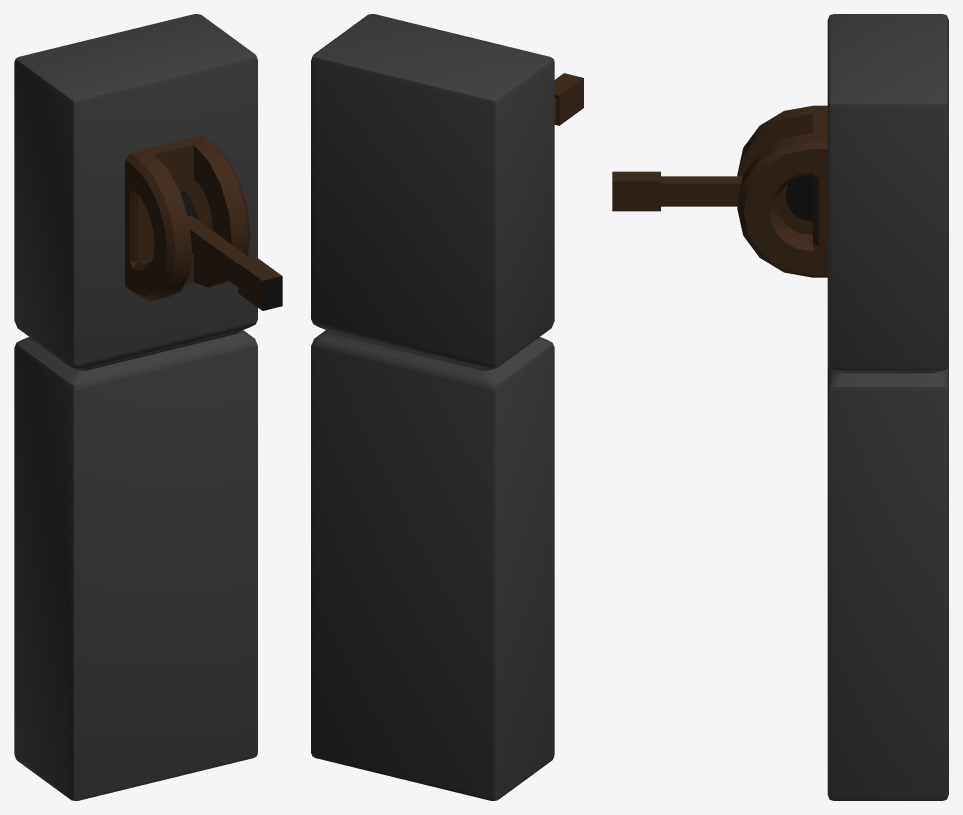
File: LeverSkeleto.fbx
The picture shows the model from 3 angles, left to right: view 1: azimuth 30°, elevation 25°; view 2: azimuth 150°, elevation 25°; view 3: azimuth 270°, elevation 25°; orthographic projection.
Parts seen in each view (by area): view 1: Lever_main, lever, Cube; view 2: Lever_main, Cube; view 3: Lever_main, lever, Cube.
Part boxes in pixels (box(x1,y1,x2,y2)): Lever_main: box(14, 14, 257, 800); lever: box(187, 215, 251, 286); Cube: box(238, 258, 282, 310); Lever_main: box(311, 14, 554, 800); Cube: box(554, 73, 583, 125); Lever_main: box(737, 14, 948, 800); lever: box(661, 176, 787, 206); Cube: box(612, 171, 660, 211).
Size of the model in its own units: 32.97 by 118 by 51.61.
